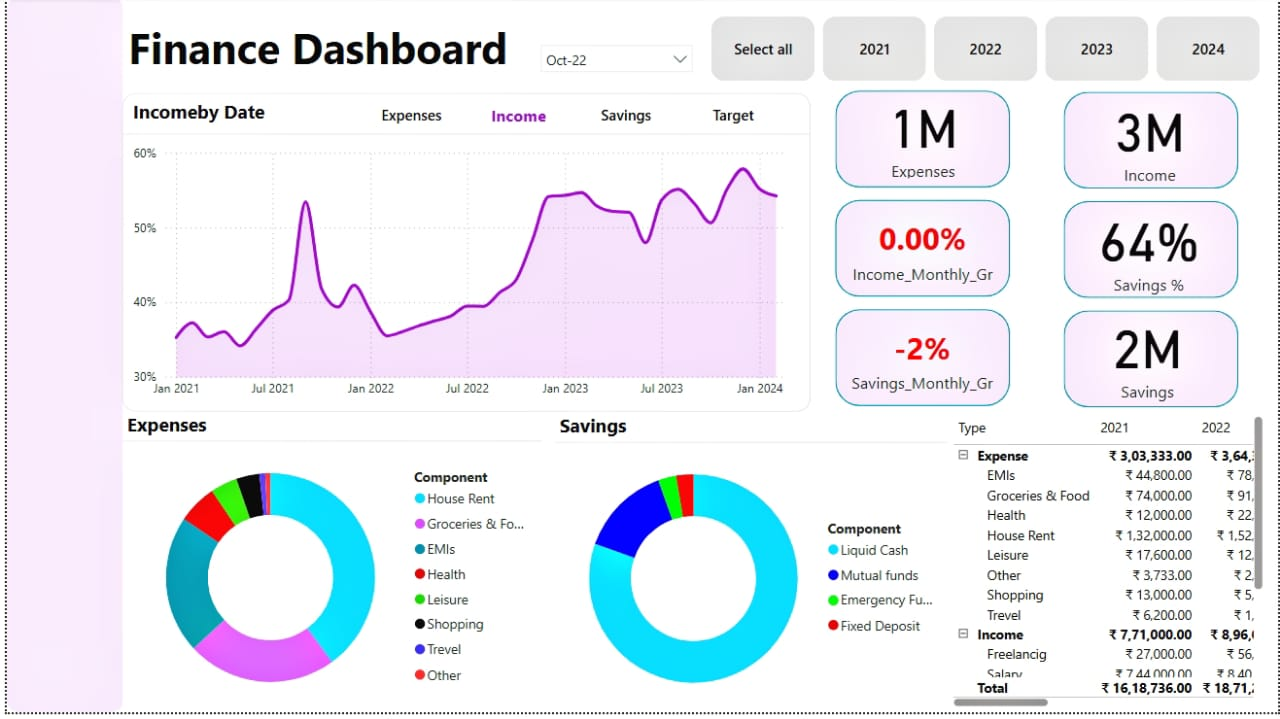

The dashboard page shown, as its layout file describes it:
{"tool":"powerbi","page":{"name":"Page 1","canvas":[1280,720],"ordinal":0},"visuals":[{"type":"shape","box":[1063.5,315.1,175.6,97.4],"z":0},{"type":"shape","box":[1063.5,205.3,175.6,97.4],"z":1000},{"type":"shape","box":[834.3,314.2,175.6,97.4],"z":2000},{"type":"shape","box":[834.2,204.3,175.6,97.4],"z":3000},{"type":"shape","box":[834.2,94.5,175.6,97.4],"z":4000},{"type":"shape","box":[1063.5,95.5,175.6,97.4],"z":5000},{"type":"card","fields":{"Values":["Data Set.Income"]},"box":[1082.7,85.1,137.2,109.8],"z":6000},{"type":"card","fields":{"Values":["Data Set.Savings"]},"box":[1058,304.6,181.1,108.4],"z":7000},{"type":"card","fields":{"Values":["Data Set.Expenses"]},"box":[827.4,85.1,189.4,101.5],"z":8000},{"type":"card","fields":{"Values":["Data Set.Savings %"]},"box":[1063.5,193.5,171.5,115.3],"z":9000},{"type":"advancedSlicerVisual","fields":{"Values":["Data Set.Year"]},"box":[703.9,15.1,564,75.5],"z":10000},{"type":"donutChart","title":"Expenses ","fields":{"Category":["Data Set.Component"],"Y":["Data Set.Expenses"]},"box":[116.4,417.3,422.7,302.7],"z":11000},{"type":"pivotTable","fields":{"Values":["Data Set.Total Value"],"Rows":["Data Set.Type","Data Set.Component"],"Columns":["Data Set.Year"]},"box":[947.1,417.1,321.4,302.9],"z":12000},{"type":"textbox","box":[117.1,15.7,410,74.3],"z":13000},{"type":"shape","box":[0,0,117.1,720],"z":15000},{"type":"card","fields":{"Values":["Data Set.Income_Monthly_Gr"]},"box":[837.1,208.6,168.8,90.6],"z":16000},{"type":"slicer","fields":{"Values":["Selected_Date.Month-Yr"]},"box":[526.9,38.4,172.9,53.5],"z":17000},{"type":"card","fields":{"Values":["Data Set.Savings_Monthly_Gr"]},"box":[839.8,319.7,163.3,90.6],"z":18000},{"type":"donutChart","title":"Savings ","fields":{"Category":["Data Set.Component"],"Y":["Data Set.Savings"]},"box":[551.1,417.8,395.6,302.2],"z":19000},{"type":"areaChart","fields":{"Category":["Data Set.Date"],"Y":["Data Set.Line_Chart_Measures"]},"box":[116.6,96.1,693,321.1],"z":20000},{"type":"advancedSlicerVisual","fields":{"Values":["Line_Selection_Table.Type"]},"box":[352.7,85.1,436.4,64.5],"z":20500}]}

Visuals, with their boxes in screenshot pixels (x1, y1, x2, y2), scaled from the page's 1280x720 canvas onto the 1280x719 screenshot:
shape: crop(1064, 315, 1239, 412)
shape: crop(1064, 205, 1239, 302)
shape: crop(834, 314, 1010, 411)
shape: crop(834, 204, 1010, 301)
shape: crop(834, 94, 1010, 192)
shape: crop(1064, 95, 1239, 193)
card - Data Set.Income: crop(1083, 85, 1220, 195)
card - Data Set.Savings: crop(1058, 304, 1239, 412)
card - Data Set.Expenses: crop(827, 85, 1017, 186)
card - Data Set.Savings %: crop(1064, 193, 1235, 308)
advancedSlicerVisual - Data Set.Year: crop(704, 15, 1268, 90)
"Expenses " donutChart: crop(116, 417, 539, 718)
pivotTable - Data Set.Total Value x Data Set.Type: crop(947, 417, 1268, 718)
textbox: crop(117, 16, 527, 90)
shape: crop(0, 0, 117, 718)
card - Data Set.Income_Monthly_Gr: crop(837, 208, 1006, 299)
slicer - Selected_Date.Month-Yr: crop(527, 38, 700, 92)
card - Data Set.Savings_Monthly_Gr: crop(840, 319, 1003, 410)
"Savings " donutChart: crop(551, 417, 947, 718)
areaChart - Data Set.Date x Data Set.Line_Chart_Measures: crop(117, 96, 810, 417)
advancedSlicerVisual - Line_Selection_Table.Type: crop(353, 85, 789, 149)
